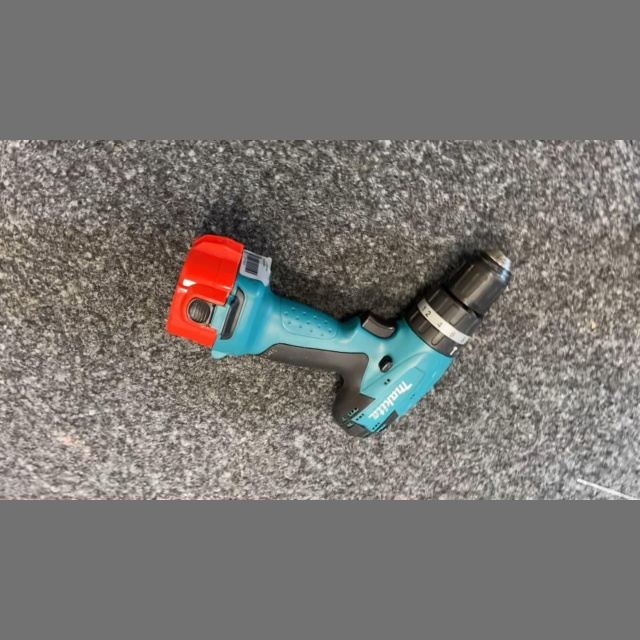drill: (157, 228, 521, 444)
